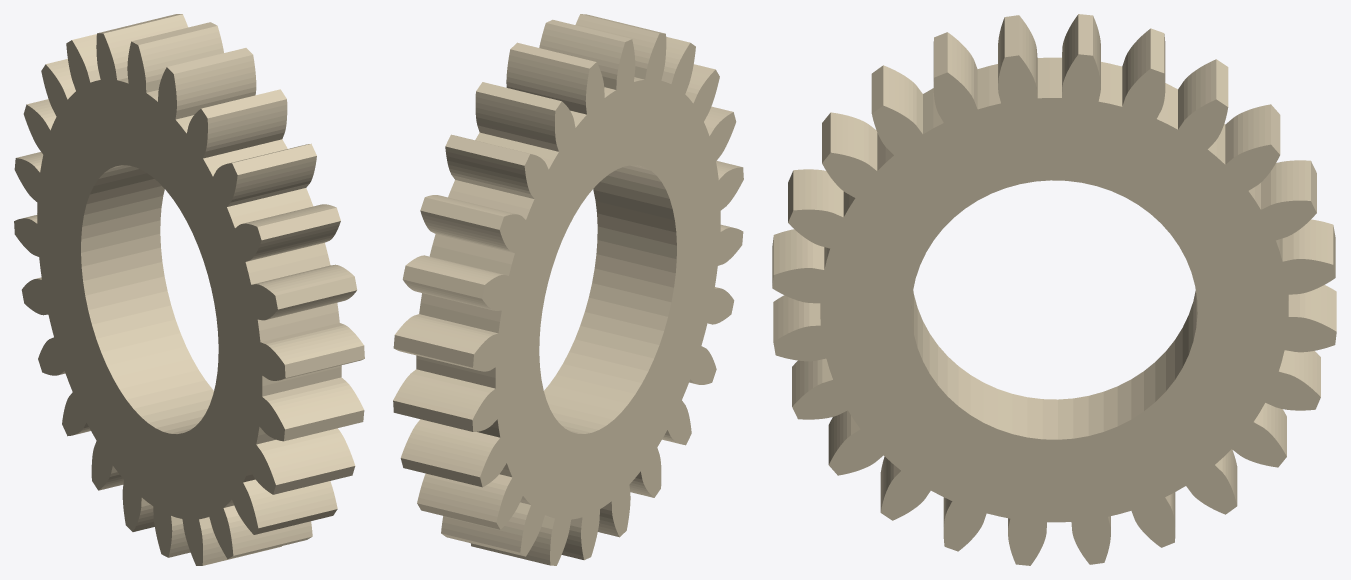
Rendered from crank-timing-gear.glb.
The picture shows the model from 3 angles, left to right: view 1: azimuth 30°, elevation 25°; view 2: azimuth 150°, elevation 25°; view 3: azimuth 270°, elevation 25°; orthographic projection. The views are drawn at different scales.
Visible parts, largest first — view 1: world; view 2: world; view 3: world.
Part boxes in pixels (x1,y1,x2,y2): world: (14, 14, 364, 565); world: (393, 14, 743, 565); world: (772, 14, 1336, 565).
Bounding box in the file's own units: 0.014 × 0.0829 × 0.0829.
